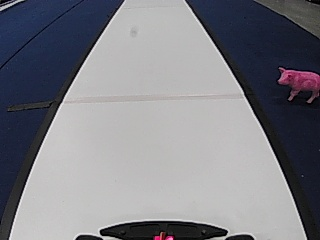pig: (273, 65, 320, 103)
